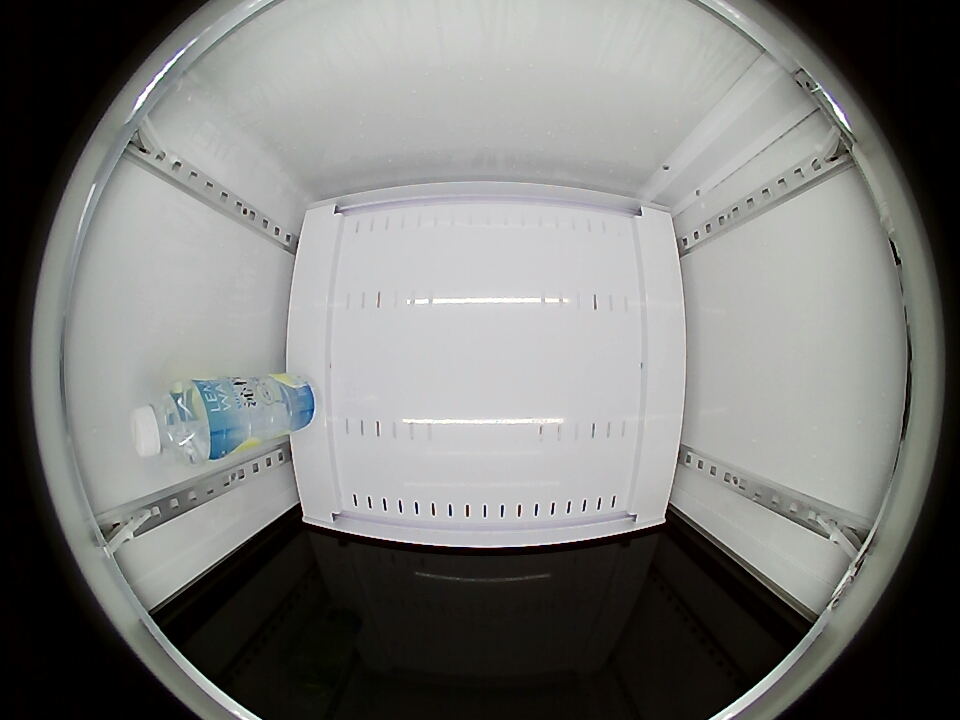qinningshui: (130, 381, 218, 464)
